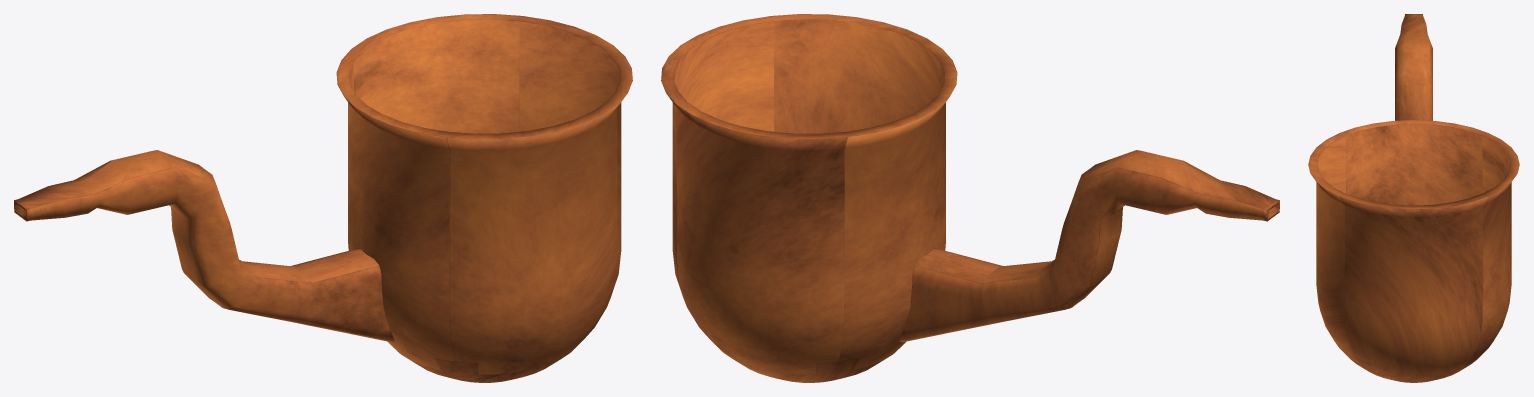
Rendered from pipe.gltf.
The picture shows the model from 3 angles, left to right: view 1: azimuth 30°, elevation 25°; view 2: azimuth 150°, elevation 25°; view 3: azimuth 270°, elevation 25°; orthographic projection. The views are drawn at different scales.
Visible parts, largest first — view 1: Sphere.001; view 2: Sphere.001; view 3: Sphere.001.
Part boxes in pixels (x1=…): Sphere.001: x1=14, y1=14, x2=632, y2=382; Sphere.001: x1=661, y1=14, x2=1279, y2=382; Sphere.001: x1=1308, y1=14, x2=1519, y2=382.
Bounding box in the file's own units: 5 × 2.37 × 2.17.
1 material, 1 textured.
